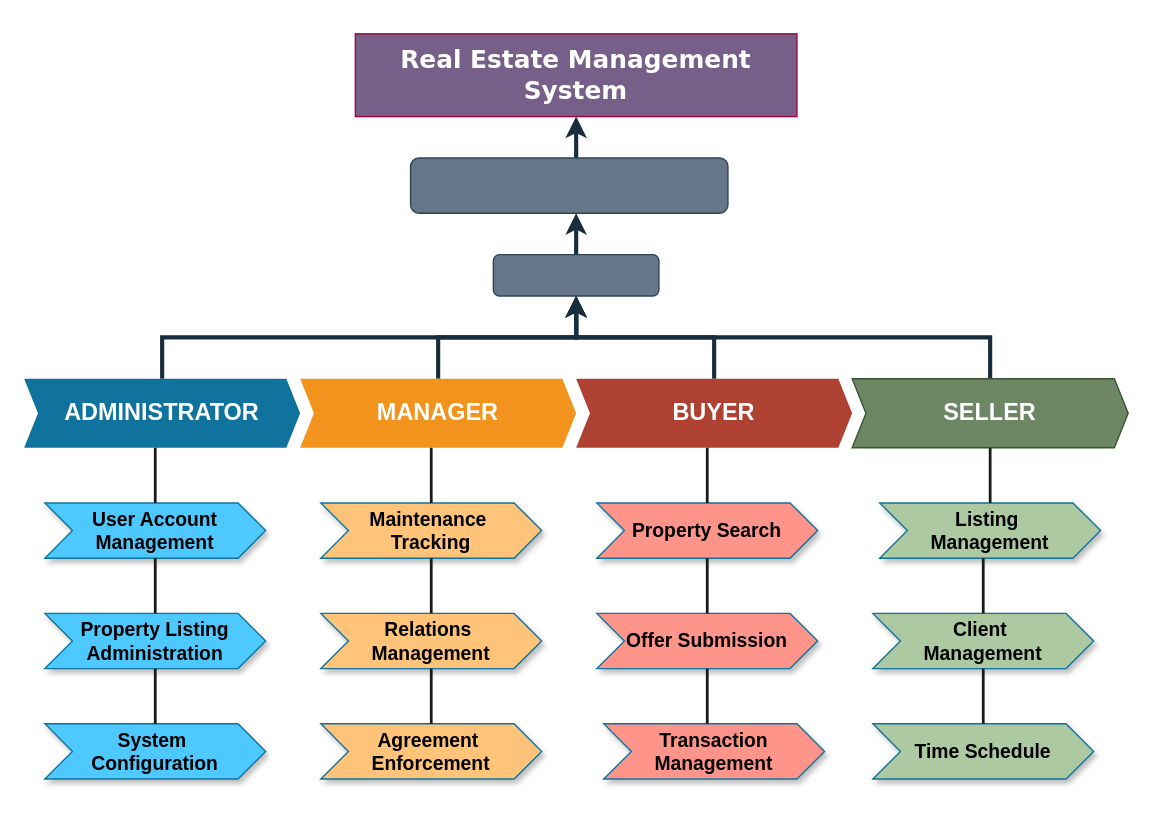
The diagram is 1152 pixels wide and 813 high, and some of its shapes have lost their labels. The centre of each missing label's shape, as x and y in pixels:
"Create Account As a Buyer/Seller" goes at point (568, 185).
"Sign In" goes at point (575, 274).
